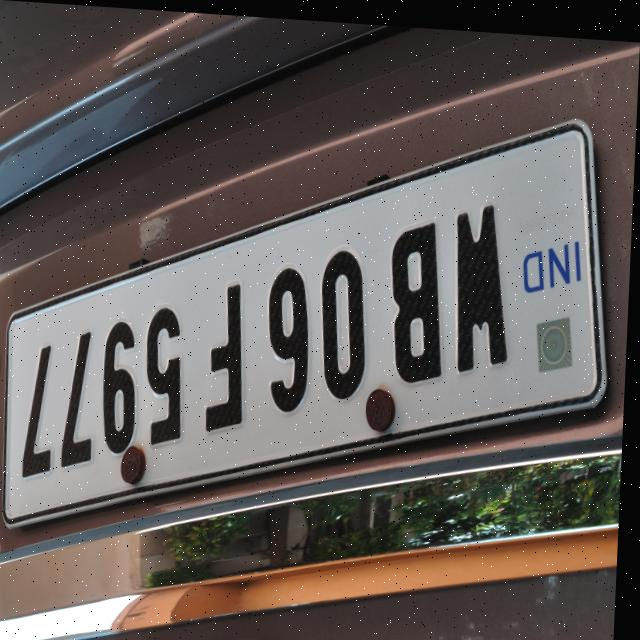plate: (0, 82, 621, 563)
